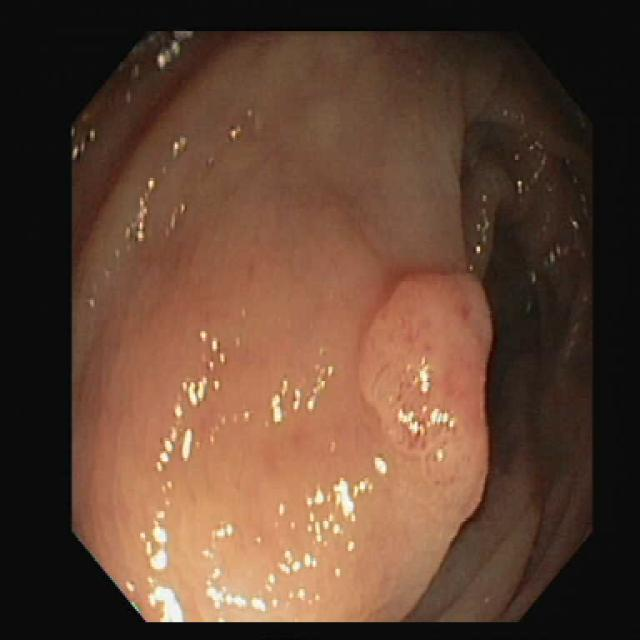tumor: (175, 153, 490, 620)
